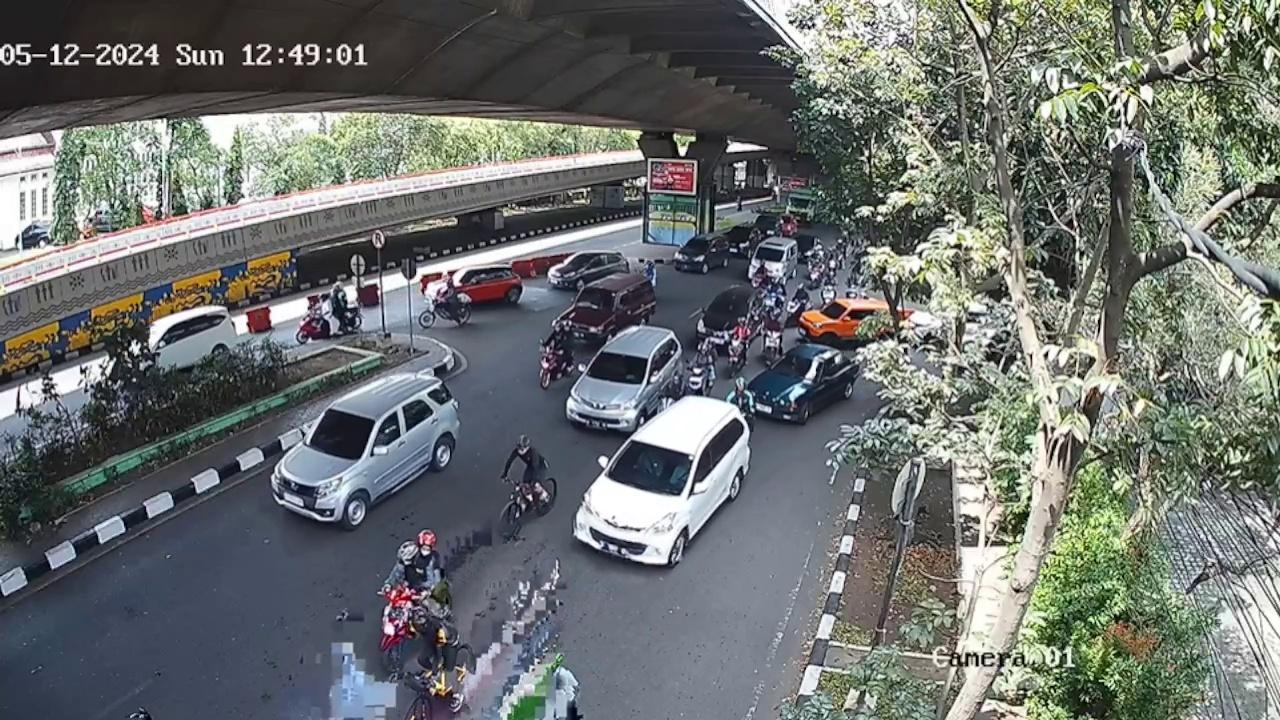pakai: (635, 447, 663, 484), (673, 455, 689, 492)
windshield: (609, 439, 695, 499), (302, 409, 377, 459), (584, 348, 653, 386)
